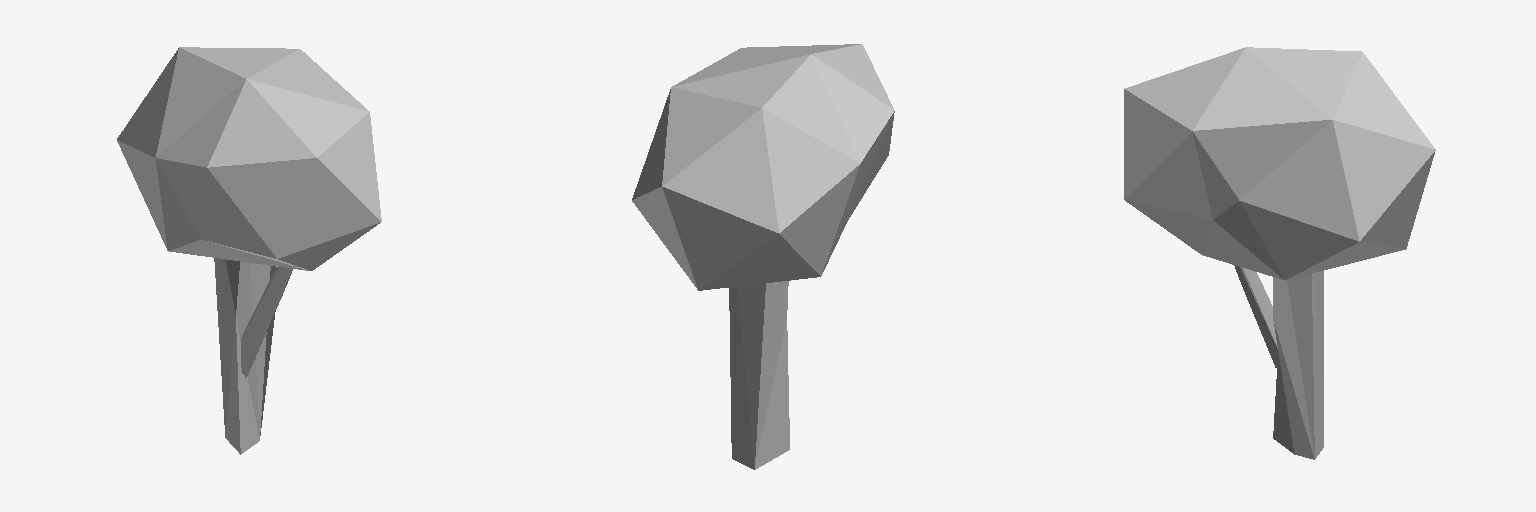
Rendered from tree.obj.
The picture shows the model from 3 angles: view 1: azimuth 30°, elevation 25°; view 2: azimuth 150°, elevation 25°; view 3: azimuth 270°, elevation 25°; orthographic projection.
Visible parts, largest first — view 1: Cylinder; view 2: Cylinder; view 3: Cylinder.
Boxes of the visible parts, box(x1,y1,x2,y2) form: Cylinder: box(117, 47, 381, 454); Cylinder: box(632, 44, 894, 469); Cylinder: box(1124, 47, 1435, 459).
Bounding box in the file's own units: 7.02 × 13.62 × 9.83.